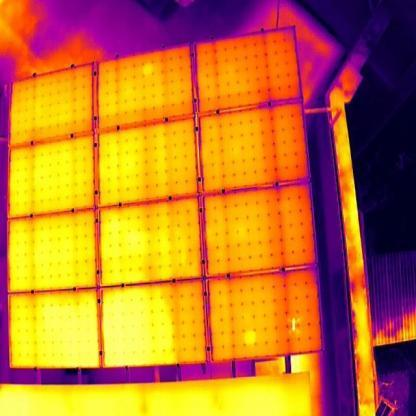anomaly: (291, 316, 299, 336)
